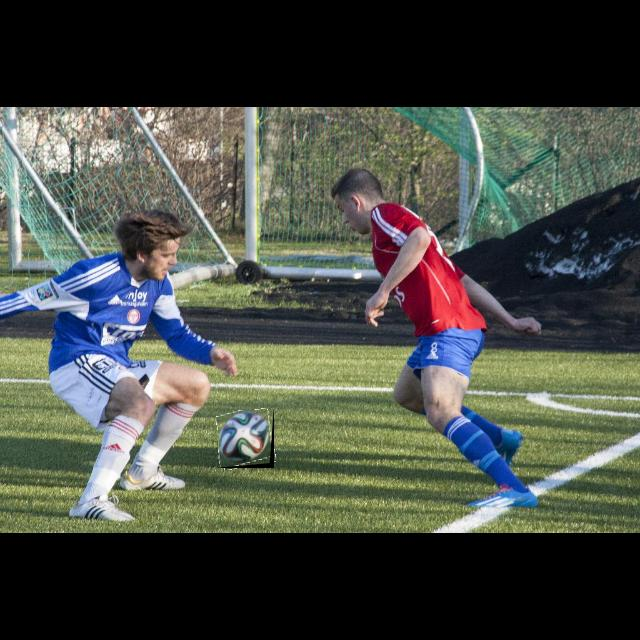Football: (218, 410, 274, 468)
